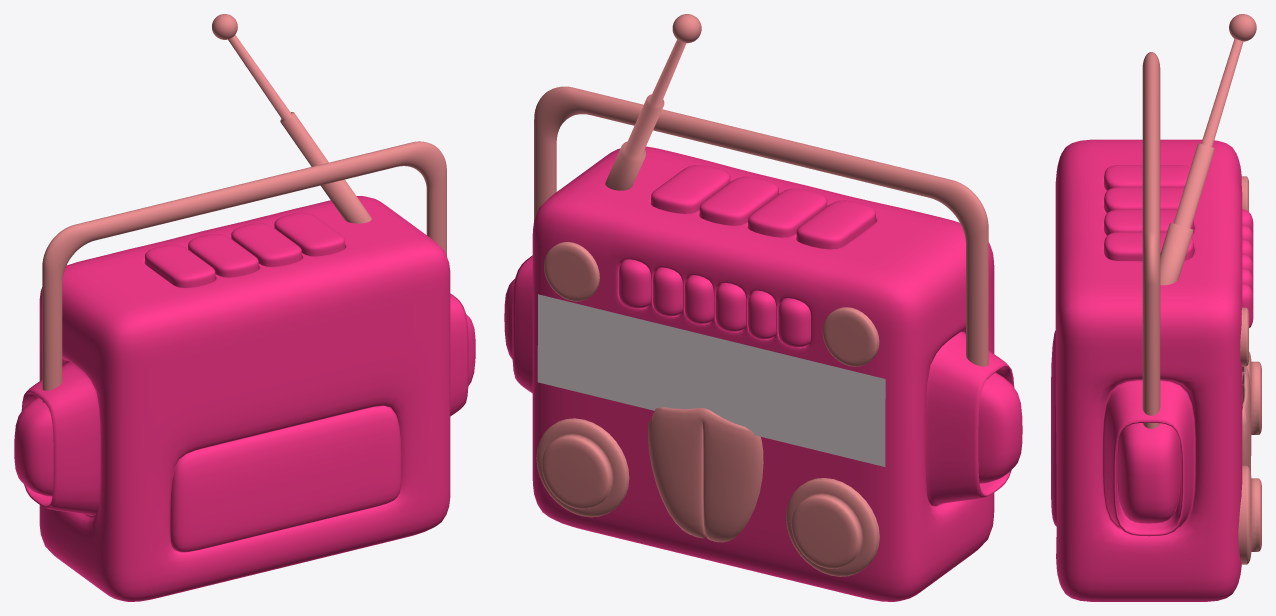
Rendered from Radioheads.fbx.
3 views of the same model, side by side, from view 1: azimuth 30°, elevation 25°; view 2: azimuth 150°, elevation 25°; view 3: azimuth 270°, elevation 25° (orthographic). The views are drawn at different scales.
Parts seen in each view (by area): view 1: Button1; view 2: Button1; view 3: Button1.
Boxes of the visible parts, x1,y1,x2,y2 form: Button1: (14,14,475,601); Button1: (504,14,1022,601); Button1: (1051,14,1261,601).
Size of the model in its own units: 143 by 149 by 54.51.
